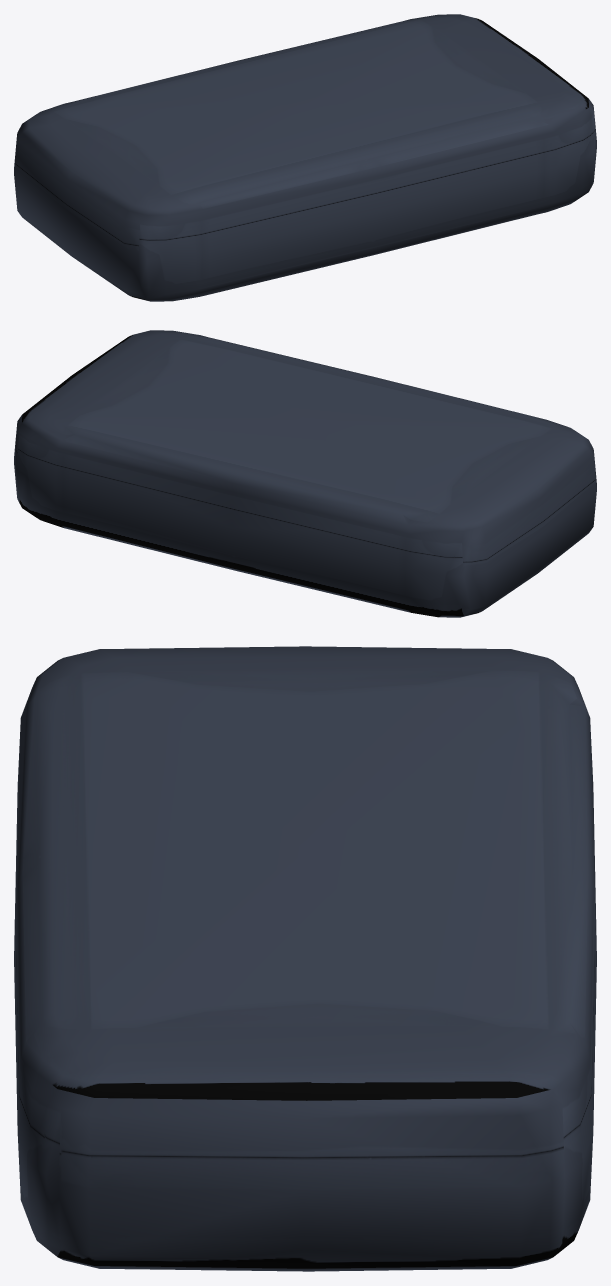
Rendered from Remache_Cadera.fbx.
3 views of the same model, one above another, from view 1: azimuth 30°, elevation 25°; view 2: azimuth 150°, elevation 25°; view 3: azimuth 270°, elevation 25° (orthographic). The views are drawn at different scales.
Parts seen in each view (by area): view 1: Remache_Cadera; view 2: Remache_Cadera; view 3: Remache_Cadera.
Part boxes in pixels (bbox=[...]): Remache_Cadera: bbox=[14, 14, 596, 301]; Remache_Cadera: bbox=[14, 330, 596, 617]; Remache_Cadera: bbox=[14, 646, 596, 1271].
Bounding box in the file's own units: 3.36 × 0.7125 × 1.78.
